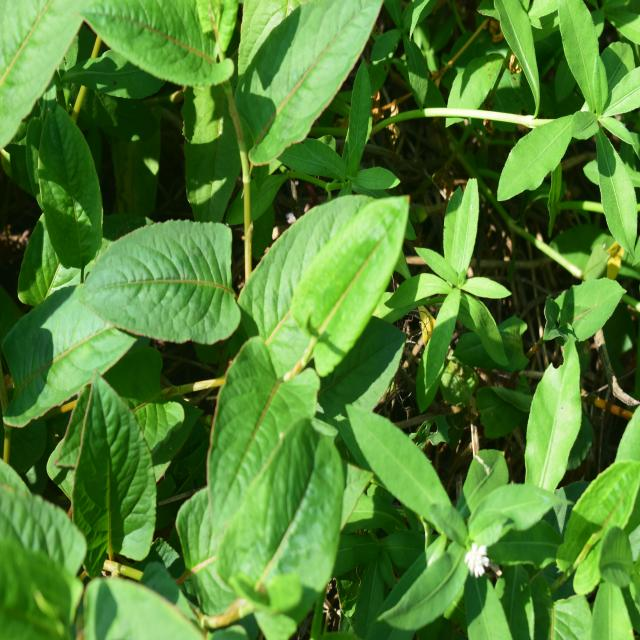Chinese_knotweed: (94, 184, 392, 573)
